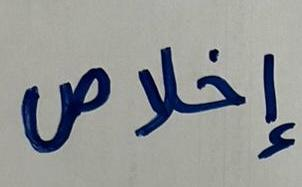hamza: (250, 37, 298, 174)
khah: (184, 35, 247, 134)
lam: (124, 35, 182, 148)
sad: (14, 37, 123, 162)
